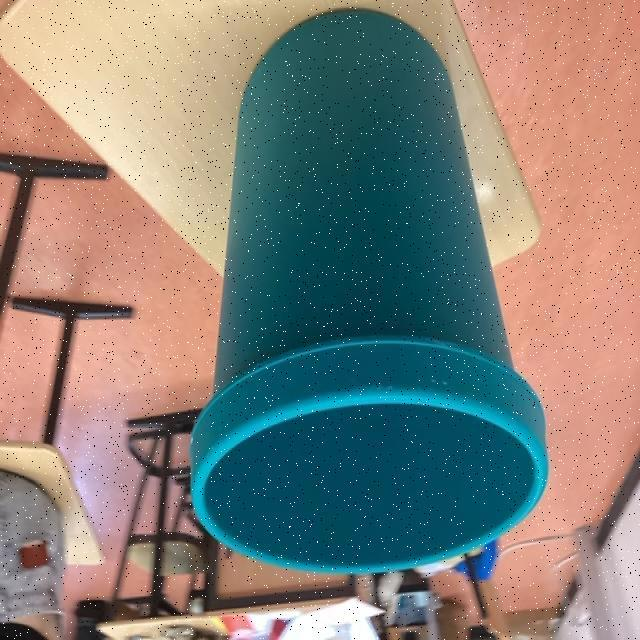garbage container: (169, 9, 553, 590)
